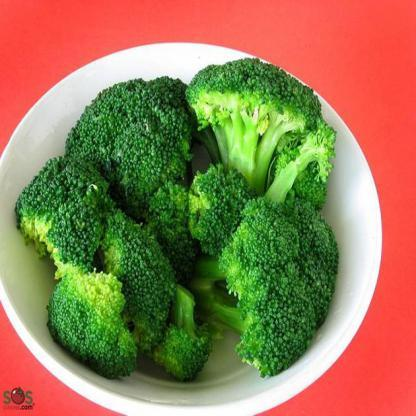broccoli: (13, 55, 338, 382)
